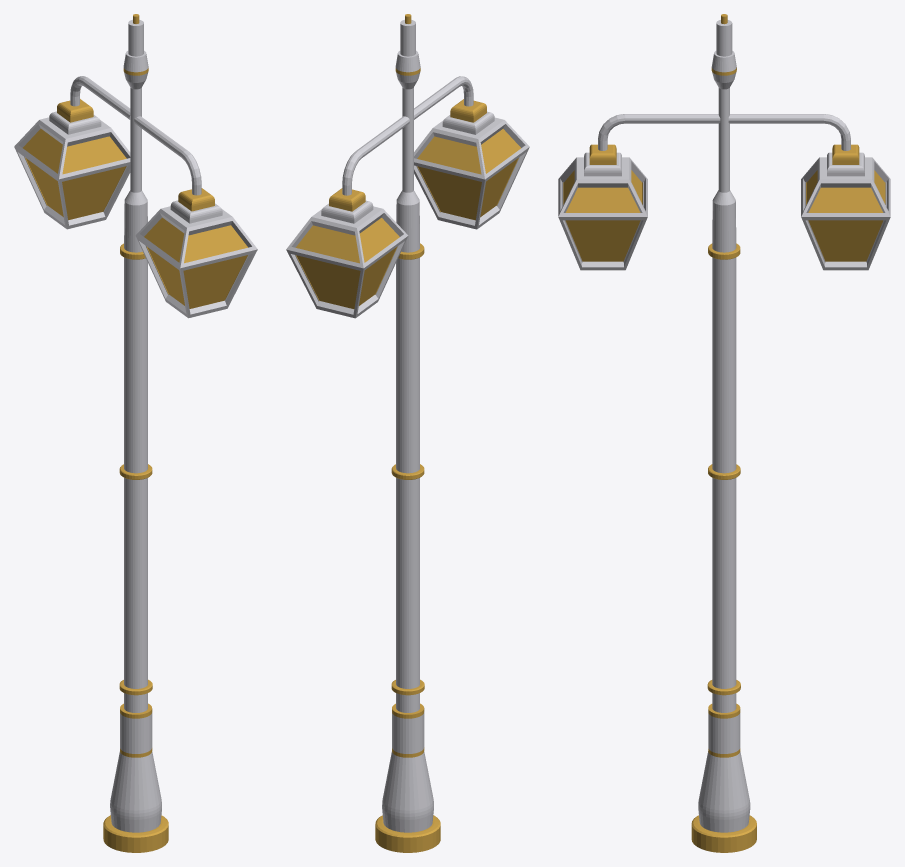
Rendered from P_LAMPU TAMAN PUTIH.fbx.
3 views of the same model, side by side, from view 1: azimuth 30°, elevation 25°; view 2: azimuth 150°, elevation 25°; view 3: azimuth 270°, elevation 25° (orthographic).
Parts seen in each view (by area): view 1: Lampu Taman; view 2: Lampu Taman; view 3: Lampu Taman.
Boxes of the visible parts, <box> form: Lampu Taman: <box>14,14,257,852</box>; Lampu Taman: <box>286,14,529,852</box>; Lampu Taman: <box>558,14,890,852</box>.
Bounding box in the file's own units: 111 × 1121 × 410.
